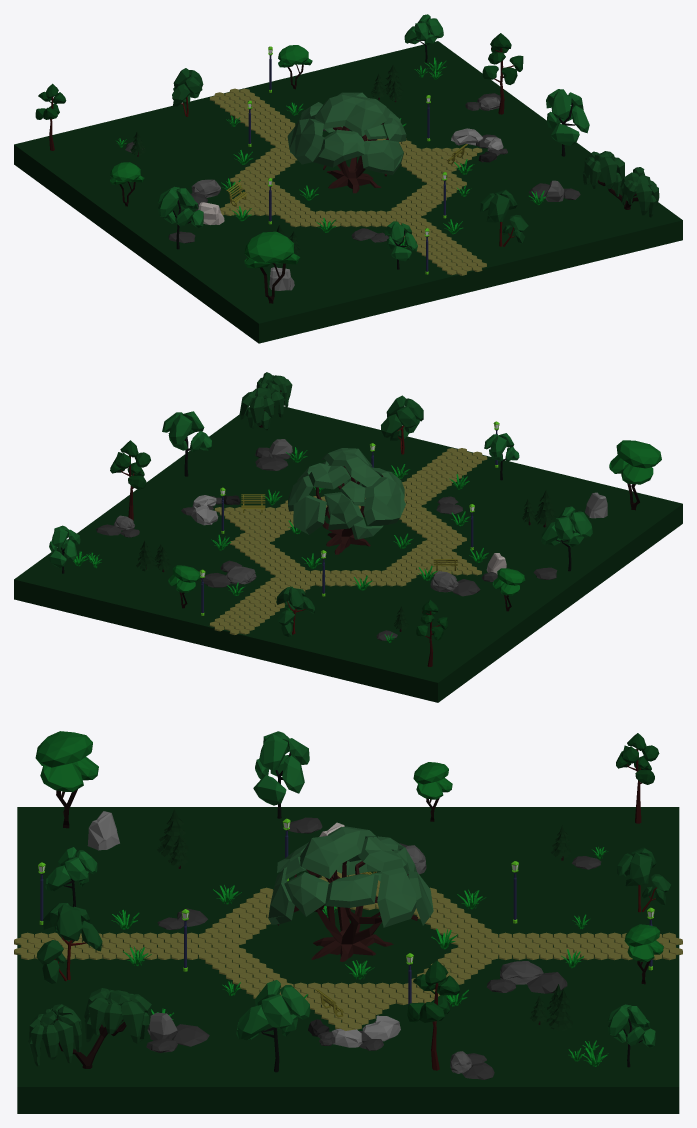
Rendered from BigPark.FBX.
3 views of the same model, one above another, from view 1: azimuth 30°, elevation 25°; view 2: azimuth 150°, elevation 25°; view 3: azimuth 270°, elevation 25° (orthographic). The views are drawn at different scales.
Visible parts, largest first — view 1: BigPark; view 2: BigPark; view 3: BigPark.
Boxes of the visible parts, x1,y1,x2,y2 form: BigPark: (14, 14, 682, 343); BigPark: (14, 372, 682, 702); BigPark: (14, 731, 682, 1113).
Bounding box in the file's own units: 20186 × 4737 × 20210.
